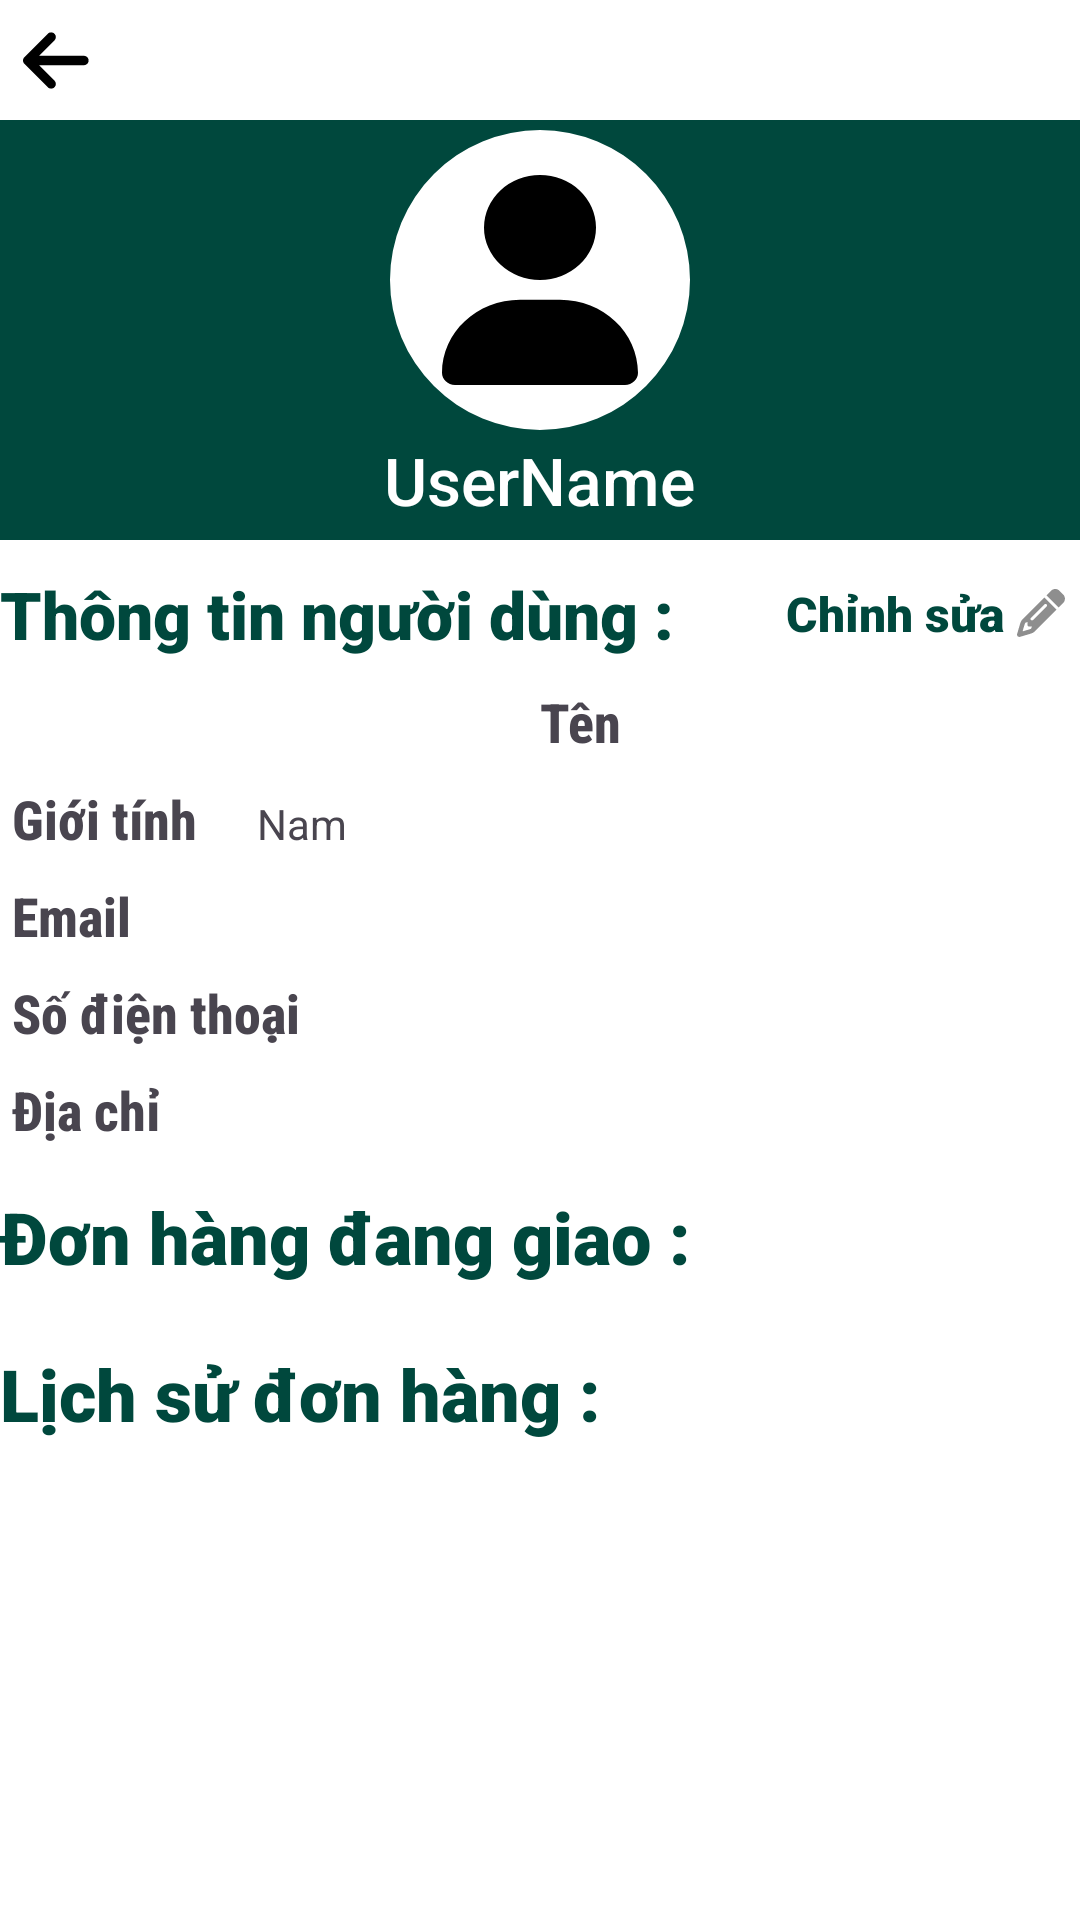

Icon click points for this 1080px x 1920px phone screenshot, format point (x, y):
Back: point (56, 60)
